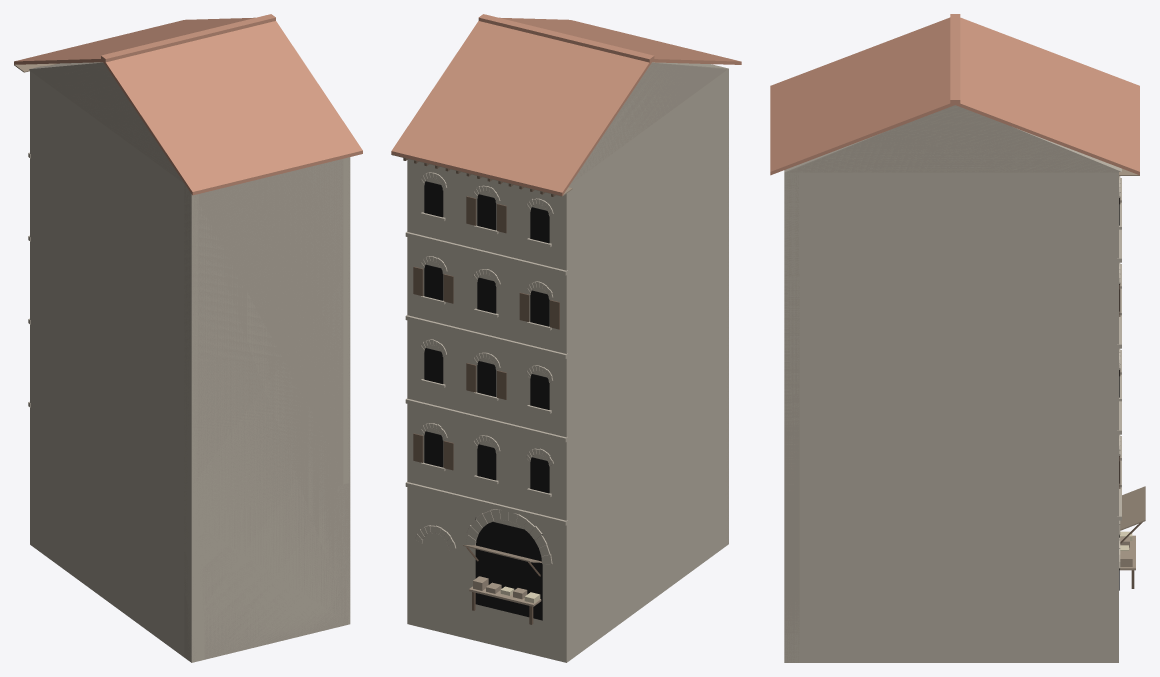
The model's file is casa-68-4-pietra.glb.
The picture shows the model from 3 angles, left to right: view 1: azimuth 30°, elevation 25°; view 2: azimuth 150°, elevation 25°; view 3: azimuth 270°, elevation 25°; orthographic projection. The views are drawn at different scales.
Parts seen in each view (by area): view 1: vicino, lontano; view 2: vicino, lontano, aperta; view 3: vicino, lontano, aperta.
Boxes of the visible parts, x1,y1,x2,y2 form: vicino: (14, 14, 362, 662); lontano: (14, 59, 362, 660); vicino: (391, 14, 741, 662); lontano: (395, 59, 730, 662); aperta: (463, 545, 541, 624); vicino: (770, 14, 1139, 662); lontano: (772, 103, 1139, 662); aperta: (1119, 486, 1145, 588).
Bounding box in the file's own units: 7.3 × 22.38 × 13.45.
